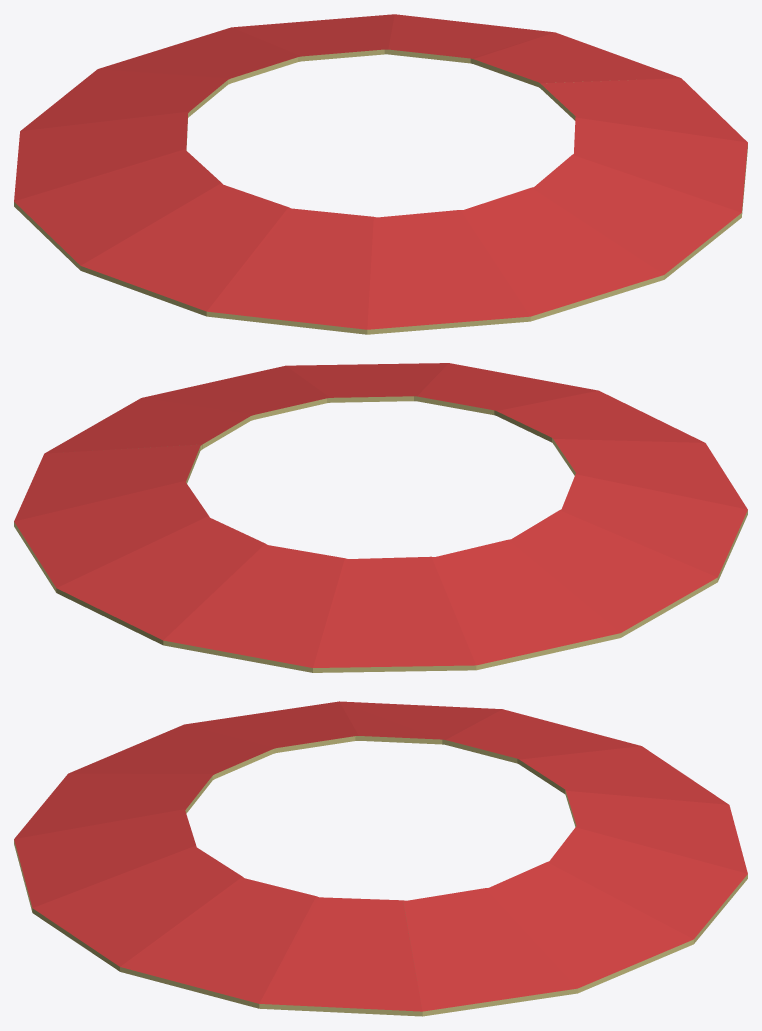
The picture shows the model from 3 angles, top to bottom: view 1: azimuth 30°, elevation 25°; view 2: azimuth 150°, elevation 25°; view 3: azimuth 270°, elevation 25°; orthographic projection.
Size of the model in its own units: 13.54 by 13.54 by 0.882.
